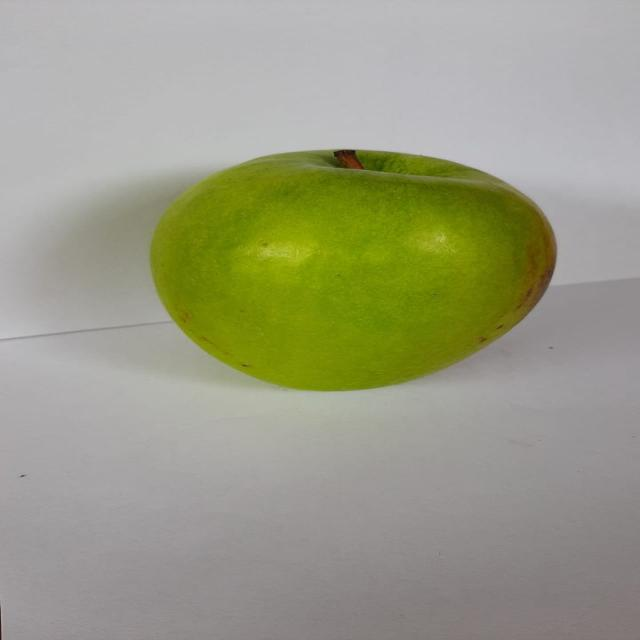50-_ripeness: (140, 128, 566, 403)
